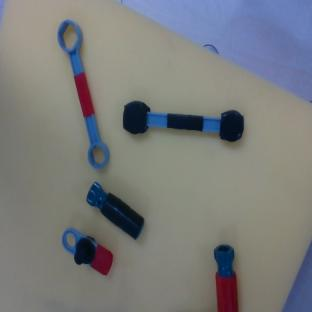part_1_good: (54, 225, 119, 278)
part_2_bad: (81, 180, 150, 240)
part_2_good: (213, 244, 238, 312)
part_3_bad: (122, 99, 245, 144)
part_3_good: (54, 17, 112, 171)
